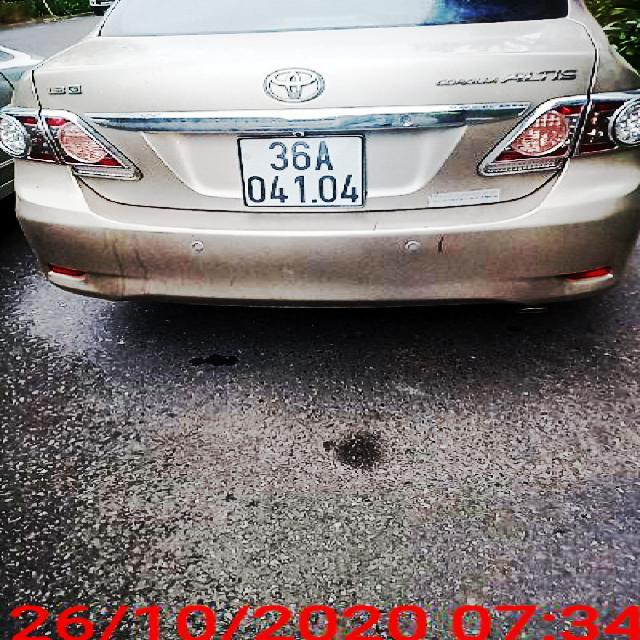license_plate: (241, 138, 367, 207)
